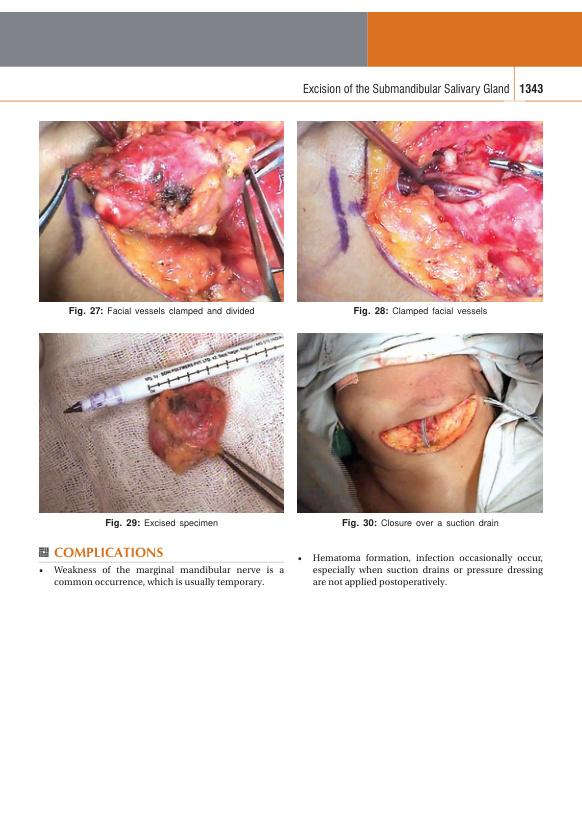caption: (67, 305, 255, 318), (340, 517, 501, 529), (352, 305, 489, 318), (103, 517, 219, 529)
header: (302, 82, 511, 97)
image: (297, 332, 544, 514), (38, 120, 284, 302), (297, 120, 543, 302), (39, 332, 284, 512)
list: (296, 552, 545, 590), (37, 564, 285, 589)
section-heading: (53, 545, 165, 559)
